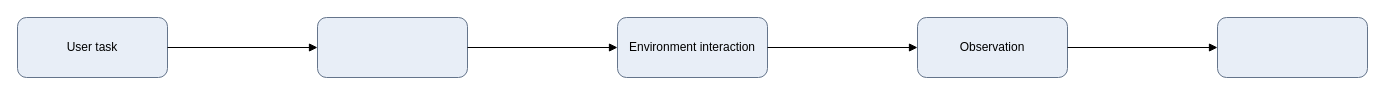
The diagram is 1385 pixels wide and 95 high, and some of its shapes have lost their labels. The centre of each missing label's shape, as x and y in pixels:
Agent reasoning: the point at 392,47
Task score: the point at 1292,47
